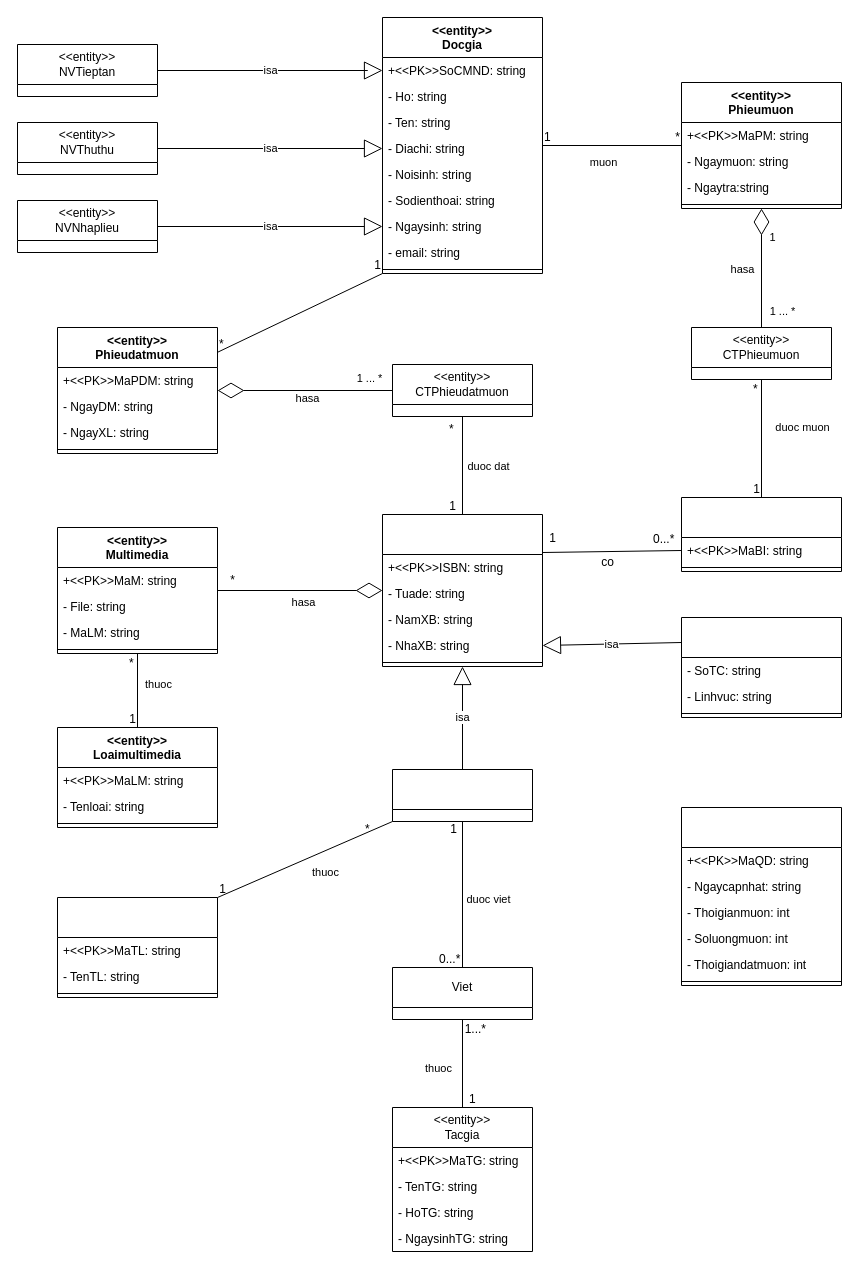
The diagram is 859 pixels wide and 1272 high, and some of its shapes have lost their labels. Each missing label, with the box of its shape:
<<entity>> Banin: (680, 496, 842, 572)
<<entity>> Quidinh: (680, 806, 842, 986)
<<entity>> Sach: (392, 768, 532, 822)
<<entity>> Tailieu: (382, 514, 542, 666)
<<entity>> Tapchi: (680, 616, 842, 718)
<<entity>> Theloai: (56, 896, 218, 998)
